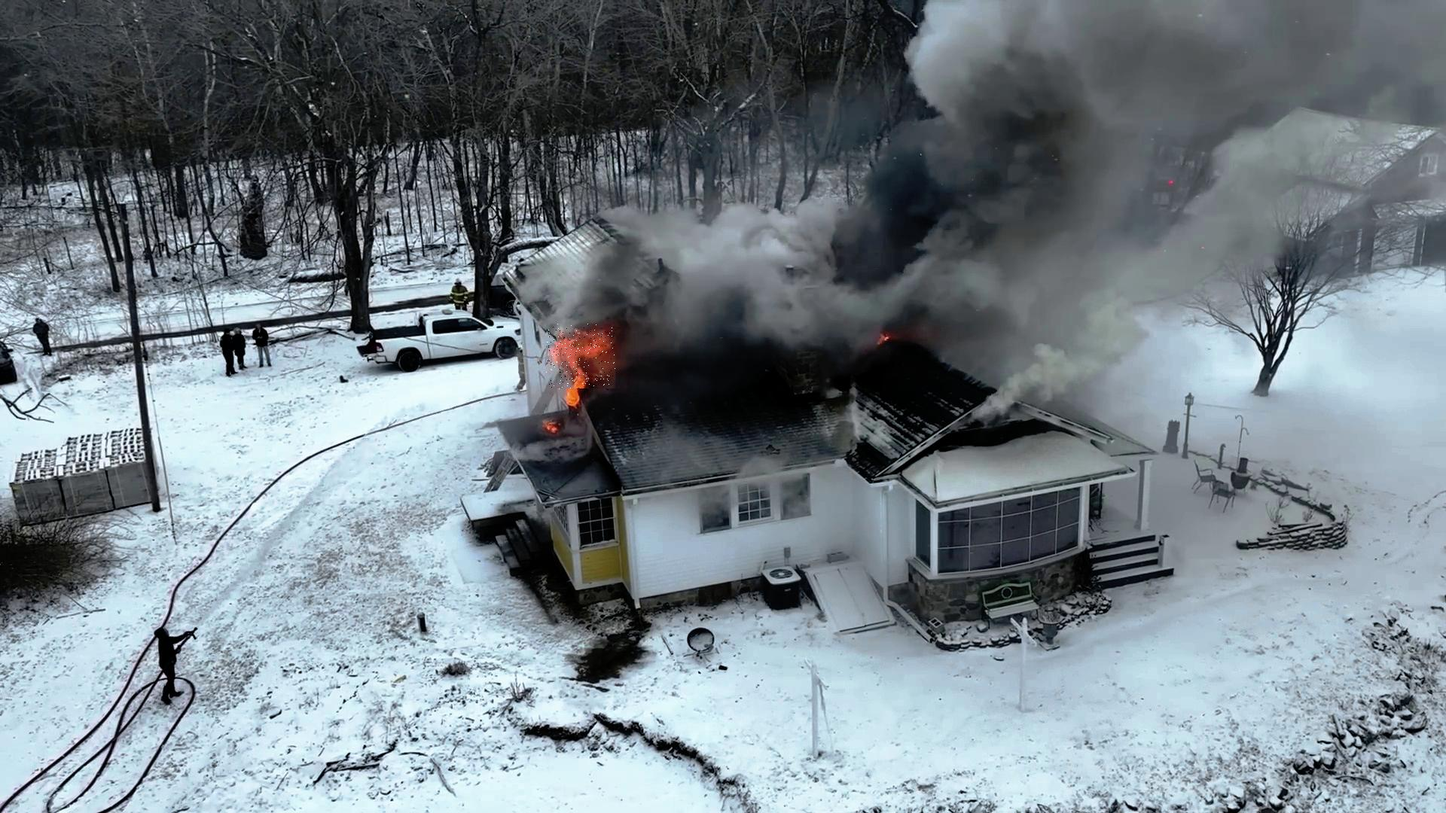fire: (546, 324, 615, 390)
